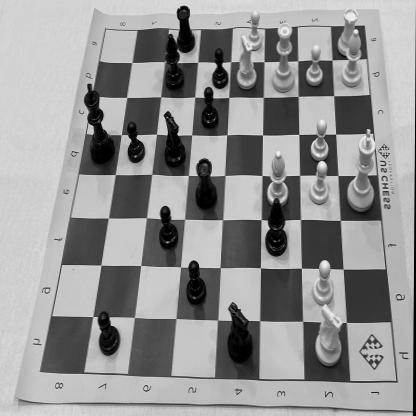black-bishop: (263, 197, 290, 262), (164, 30, 185, 95)
black-king: (82, 78, 118, 168)
black-knight: (225, 299, 256, 366), (160, 106, 186, 172)
black-pawn: (96, 308, 122, 361), (184, 255, 209, 308), (158, 200, 180, 255), (124, 120, 146, 168), (210, 45, 232, 90), (199, 85, 220, 132)
black-rook: (193, 152, 220, 213), (175, 0, 199, 55)
white-bishop: (338, 27, 366, 91), (264, 146, 292, 210)
white-king: (342, 124, 380, 217)
white-knight: (312, 302, 348, 371), (233, 31, 260, 92)
white-pawn: (308, 156, 332, 209), (308, 114, 333, 164), (312, 256, 337, 306), (243, 6, 268, 52), (304, 42, 326, 87)
white-queen: (270, 21, 298, 97)
white-rook: (332, 3, 364, 60)
